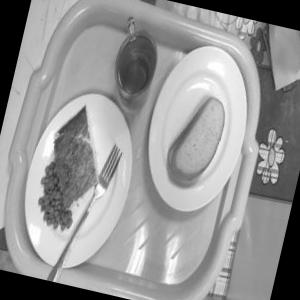bread: (158, 76, 237, 195)
casserole: (20, 101, 112, 239)
tea: (103, 11, 170, 106)
